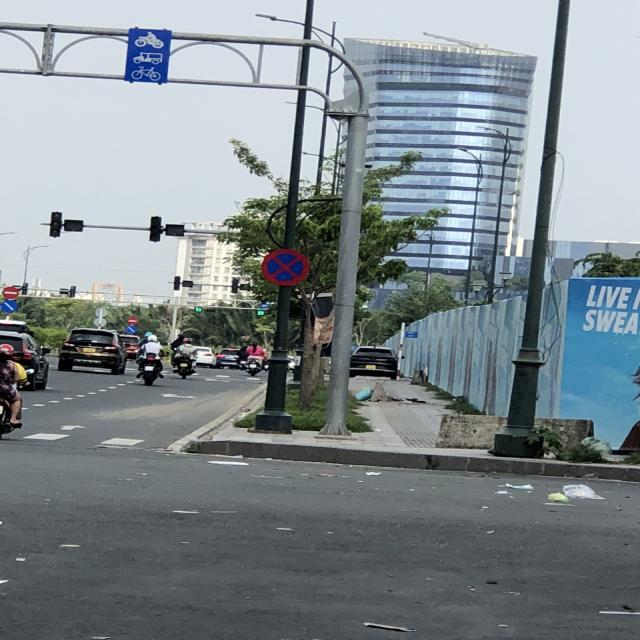Bien bao cam dung xe va do xe: (253, 244, 315, 290)
